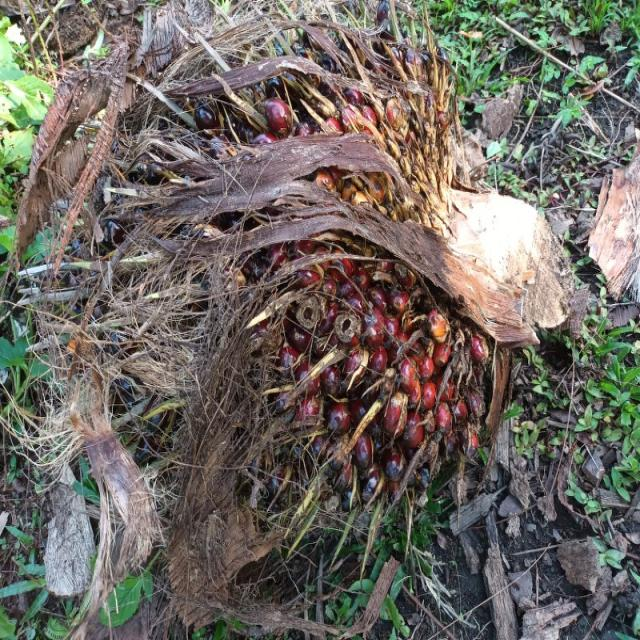fraksi 1: (153, 4, 534, 554)
